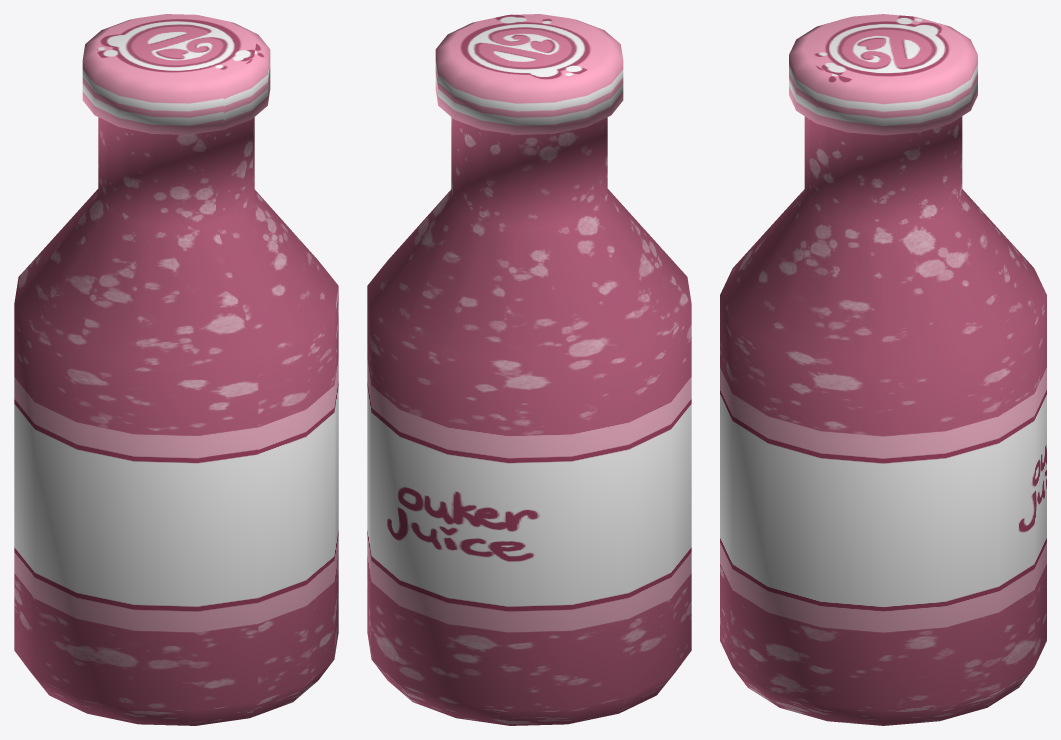
The model's file is Ouker Juice.glb.
The picture shows the model from 3 angles, left to right: view 1: azimuth 30°, elevation 25°; view 2: azimuth 150°, elevation 25°; view 3: azimuth 270°, elevation 25°; orthographic projection.
Visible parts, largest first — view 1: Cylinder; view 2: Cylinder; view 3: Cylinder.
Part boxes in pixels (<box>): Cylinder: <box>14,14,338,725</box>; Cylinder: <box>367,14,691,725</box>; Cylinder: <box>720,14,1046,725</box>.
Bounding box in the file's own units: 2 × 4.16 × 2.
Materials: 1 (1 with a texture image).
